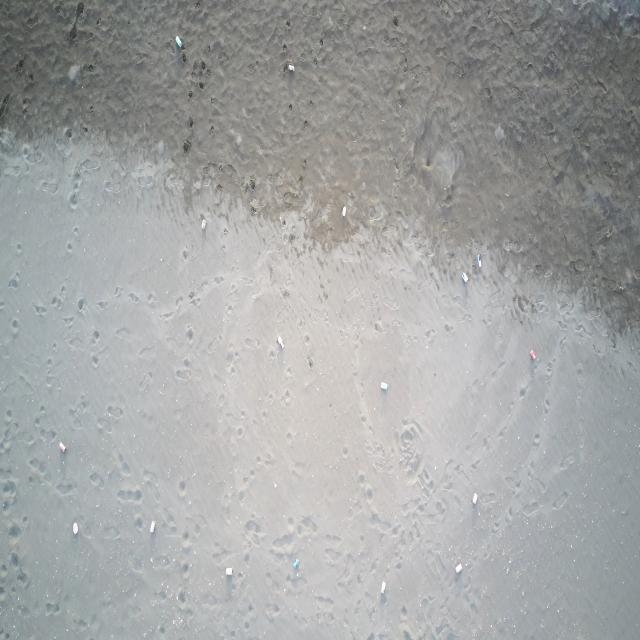tin-and-aluminum-cans: (175, 35, 184, 50), (285, 62, 296, 74), (454, 562, 464, 574), (380, 380, 389, 393), (276, 336, 284, 350), (58, 442, 67, 454), (201, 216, 208, 231), (292, 558, 300, 571), (477, 252, 482, 272), (224, 566, 233, 577), (461, 272, 469, 284), (341, 204, 348, 217), (149, 520, 156, 533), (72, 521, 78, 536), (472, 492, 478, 507), (381, 580, 386, 595), (531, 350, 537, 361)
